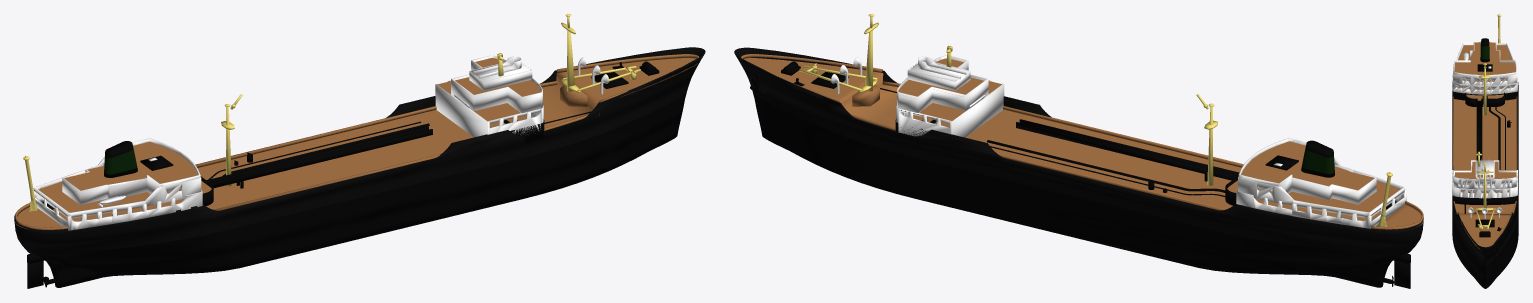
Rendered from Tanker_Ship.obj.
3 views of the same model, side by side, from view 1: azimuth 30°, elevation 25°; view 2: azimuth 150°, elevation 25°; view 3: azimuth 270°, elevation 25° (orthographic). The views are drawn at different scales.
Bounding box in the file's own units: 6 × 1.24 × 0.8043.
